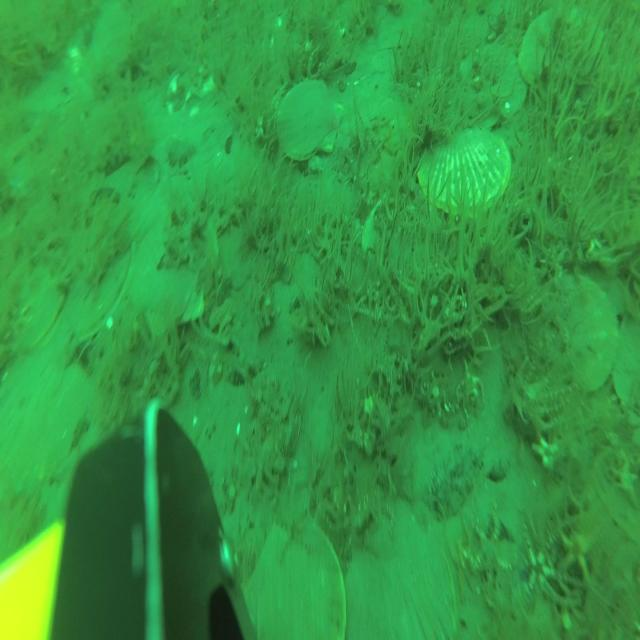scallop: (250, 511, 346, 640), (350, 532, 452, 640), (132, 212, 219, 329), (550, 272, 620, 393), (416, 126, 512, 214), (519, 6, 612, 94), (277, 79, 344, 165)
